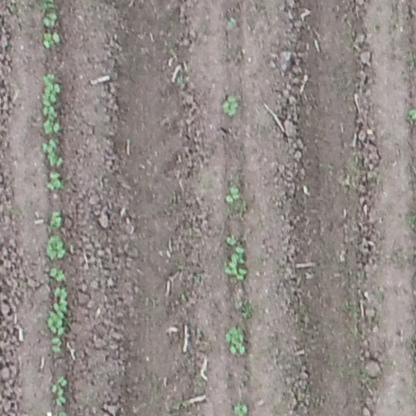vc: (38, 71, 62, 137), (219, 246, 253, 280), (49, 287, 67, 335), (224, 326, 250, 356), (39, 140, 63, 167), (48, 375, 69, 405), (46, 234, 67, 261), (221, 91, 241, 117), (44, 172, 67, 191), (39, 9, 59, 27), (42, 31, 62, 49), (47, 208, 64, 229), (48, 266, 69, 281), (224, 184, 240, 203), (50, 337, 62, 352), (226, 233, 236, 245)
